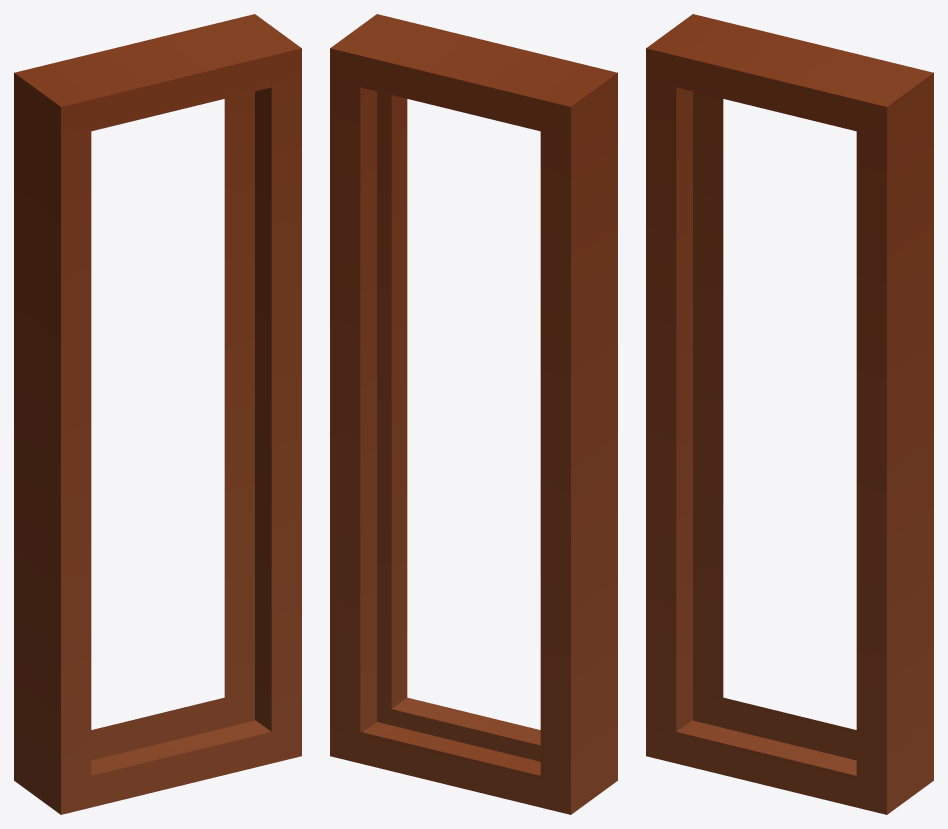
File: WallQueenFrame.fbx
3 views of the same model, side by side, from view 1: azimuth 30°, elevation 25°; view 2: azimuth 150°, elevation 25°; view 3: azimuth 330°, elevation 25° (orthographic).
Parts seen in each view (by area): view 1: WallQueenFrame_LOD0; view 2: WallQueenFrame_LOD0; view 3: WallQueenFrame_LOD0.
Part boxes in pixels (x1,y1,x2,y2): WallQueenFrame_LOD0: (14, 14, 301, 814); WallQueenFrame_LOD0: (330, 14, 617, 814); WallQueenFrame_LOD0: (646, 14, 933, 814).
Size of the model in its own units: 177 by 497 by 59.64.
